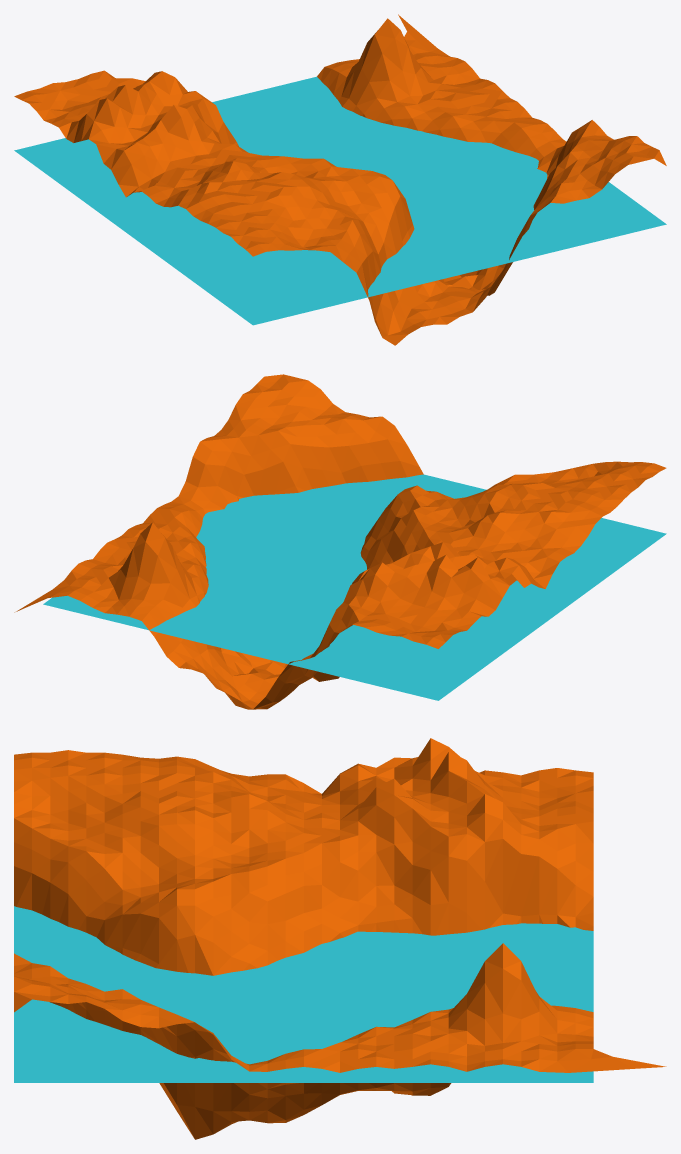
Rendered from GROUND1.fbx.
3 renders of one model, top to bottom at view 1: azimuth 30°, elevation 25°; view 2: azimuth 150°, elevation 25°; view 3: azimuth 270°, elevation 25°, orthographic. The views are drawn at different scales.
Visible parts, largest first — view 1: 평면.001, 평면.002; view 2: 평면.001, 평면.002; view 3: 평면.001, 평면.002.
Boxes of the visible parts, left/top/right/bottom form: 평면.001: left=14, top=14, right=666, bottom=345; 평면.002: left=14, top=76, right=666, bottom=325; 평면.001: left=14, top=374, right=666, bottom=709; 평면.002: left=43, top=474, right=666, bottom=700; 평면.001: left=14, top=738, right=666, bottom=1139; 평면.002: left=14, top=906, right=593, bottom=1082.
Size of the model in its own units: 1000 by 463 by 1126.
